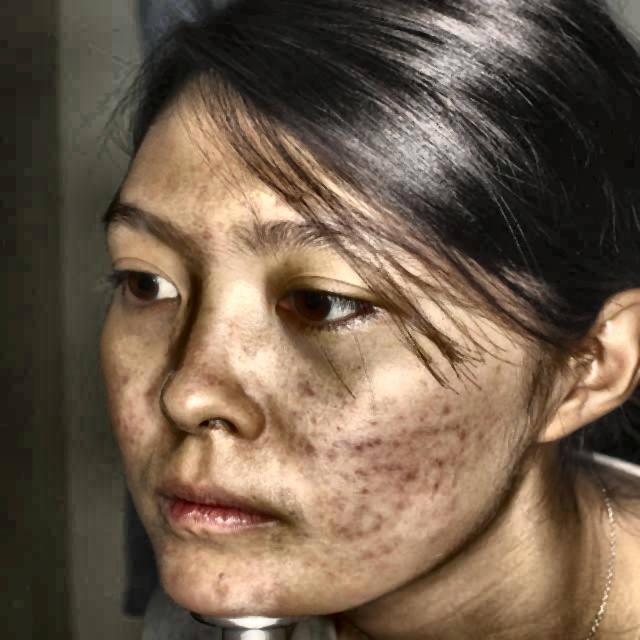pustule: (160, 560, 190, 594), (160, 536, 186, 560), (427, 458, 451, 478), (454, 422, 475, 444), (212, 567, 232, 587), (393, 466, 415, 479)
